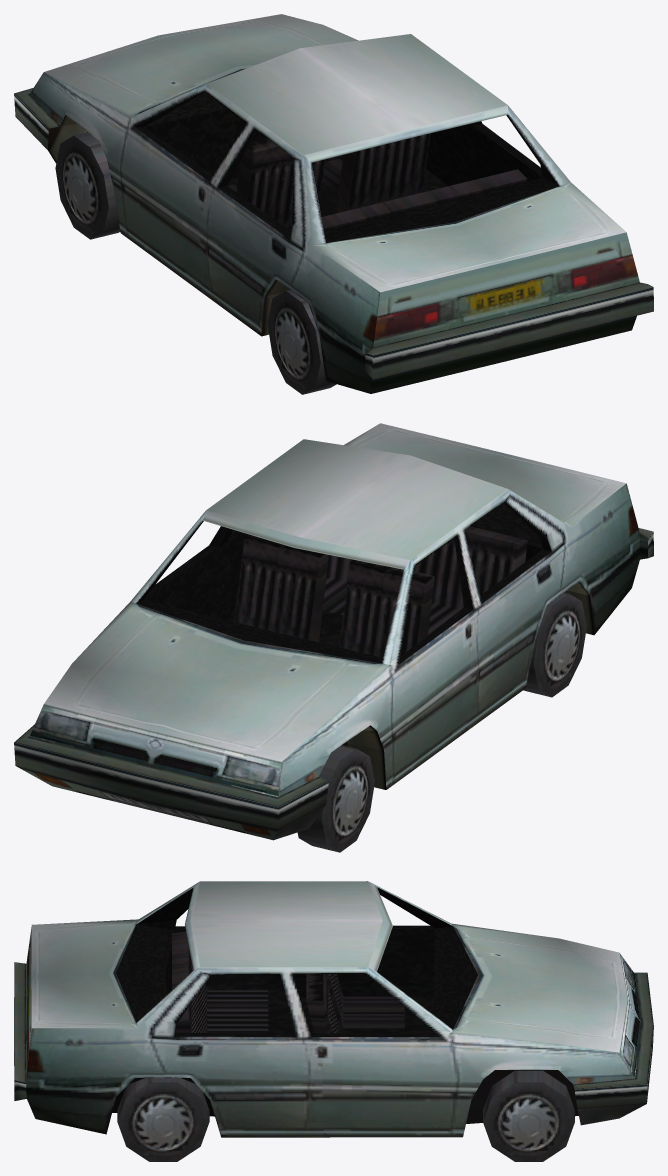
File: CIVCAR_V1.glb
The picture shows the model from 3 angles, top to bottom: view 1: azimuth 30°, elevation 25°; view 2: azimuth 150°, elevation 25°; view 3: azimuth 270°, elevation 25°; orthographic projection. The views are drawn at different scales.
Visible parts, largest first — view 1: CIVCAR_V1; view 2: CIVCAR_V1; view 3: CIVCAR_V1.
Boxes of the visible parts, x1,y1,x2,y2 form: CIVCAR_V1: (14,14,653,394); CIVCAR_V1: (14,423,653,852); CIVCAR_V1: (14,881,653,1161).
Bounding box in the file's own units: 2.04 × 1.48 × 4.63.
Materials: 2 (2 with a texture image).
